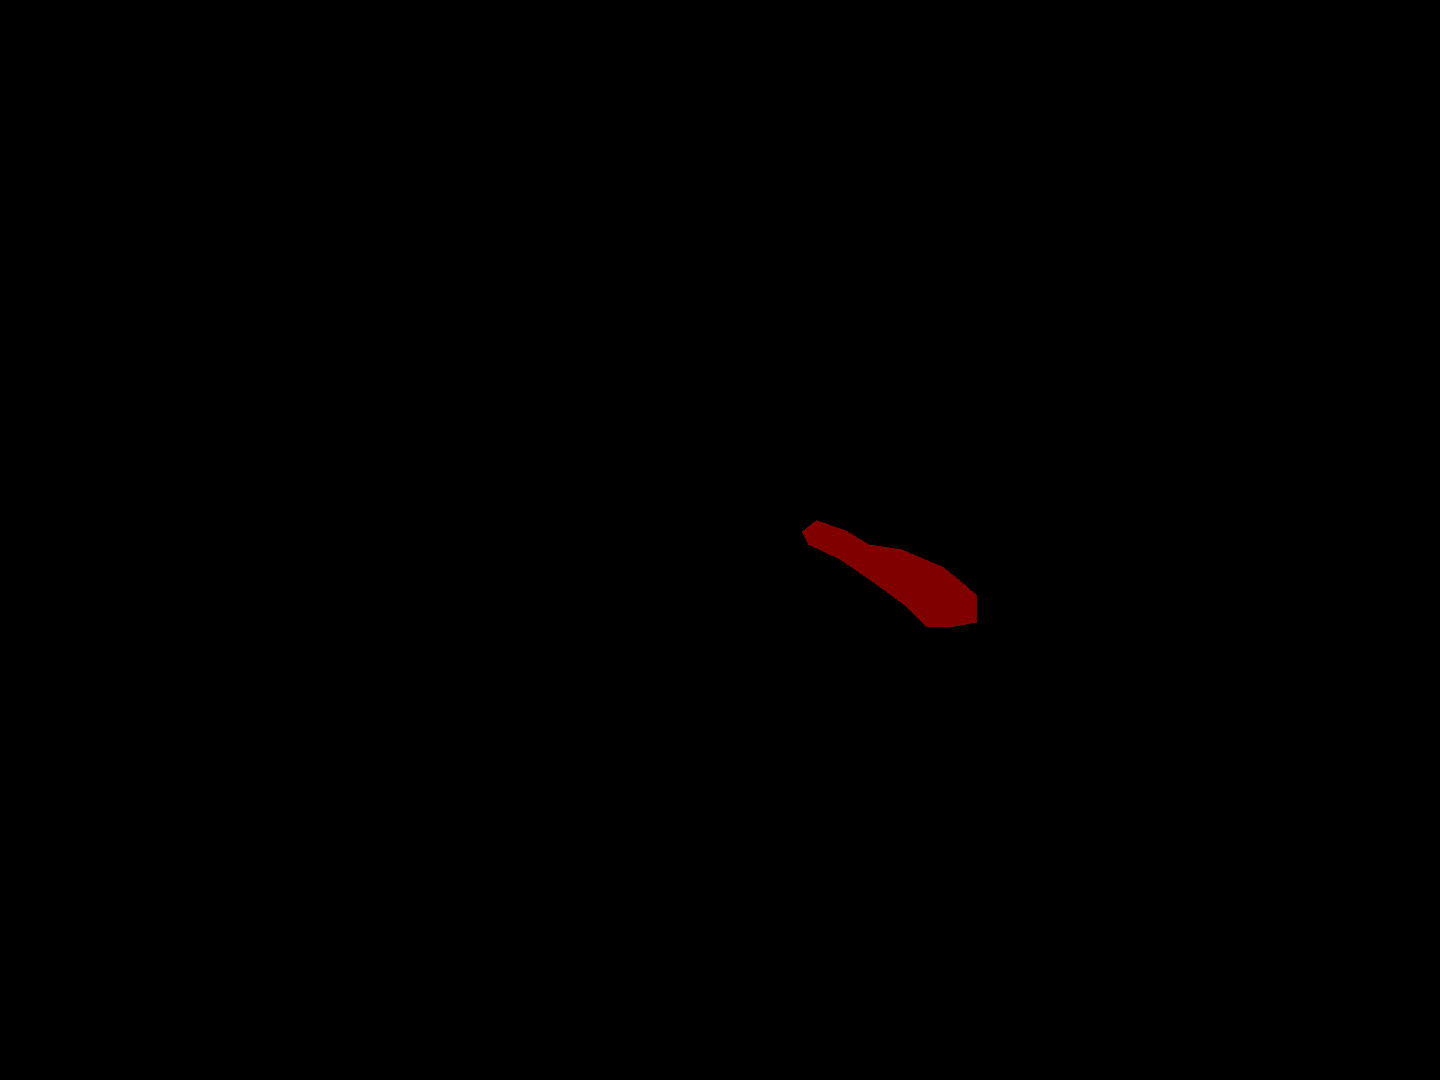fire: (802, 520, 976, 627)
